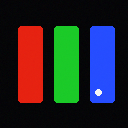0 point: (95, 89, 101, 95)
